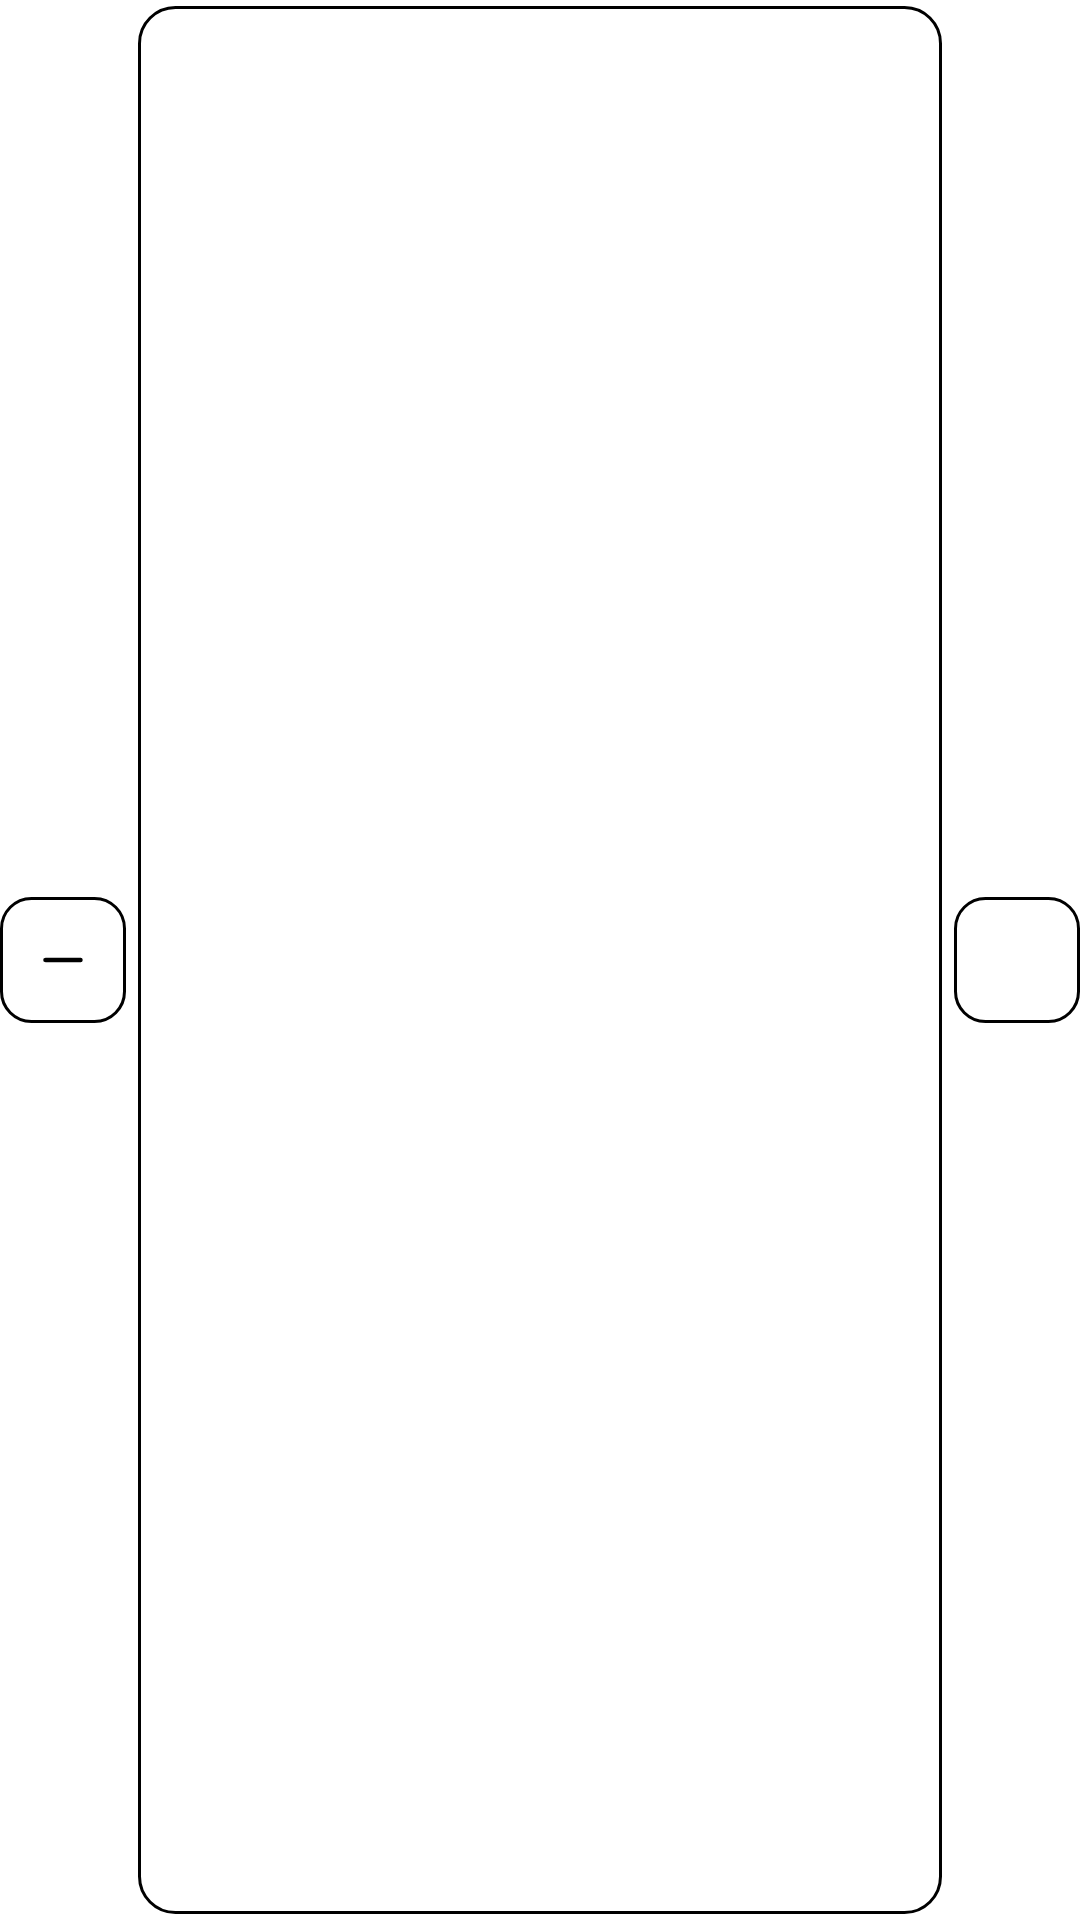

Screen size 1080px×1920px. Icon name, then its box in pixels as region(x1, y1, x2, y2):
number picker decrement: region(0, 897, 126, 1023)
